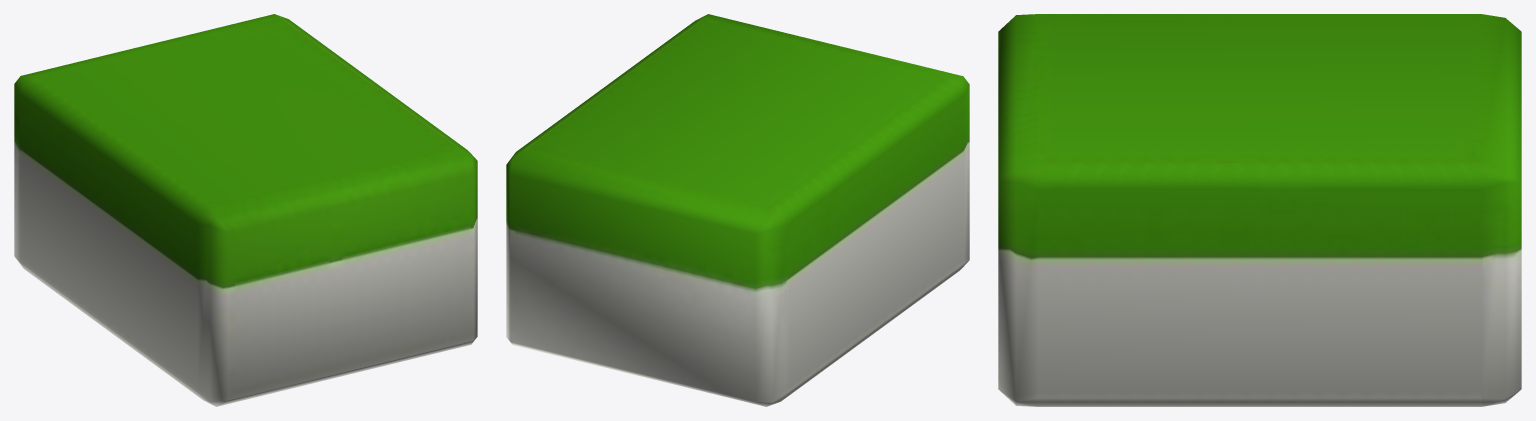
File: all.fbx
The picture shows the model from 3 angles, left to right: view 1: azimuth 30°, elevation 25°; view 2: azimuth 150°, elevation 25°; view 3: azimuth 270°, elevation 25°; orthographic projection. The views are drawn at different scales.
Parts seen in each view (by area): view 1: 1tiao; view 2: 1tiao; view 3: 1tiao.
Part boxes in pixels (box(x1,y1,x2,y2)): 1tiao: box(14, 14, 477, 406); 1tiao: box(506, 14, 969, 406); 1tiao: box(998, 14, 1521, 406).
Bounding box in the file's own units: 0.0299 × 0.0204 × 0.0396.
